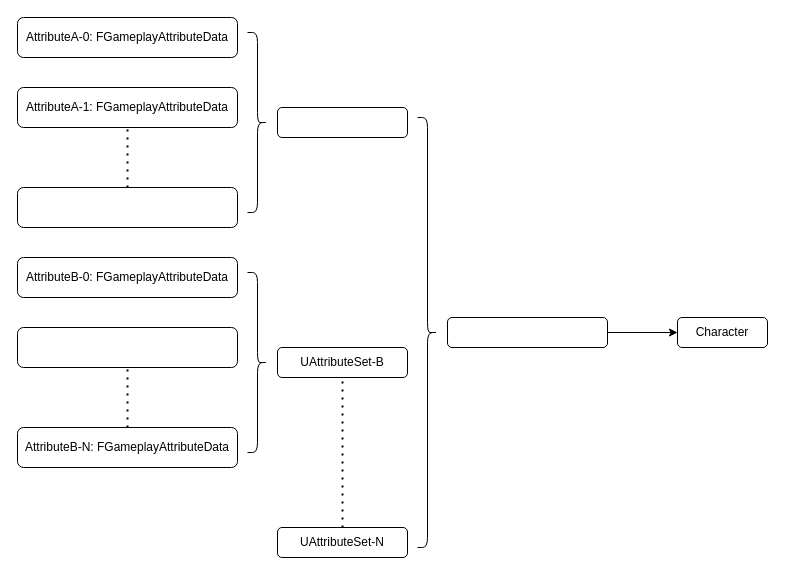
This 785x575 diagram has some shape labels left out. The shapes that lost their labels are listed below. From the top down, each one's centre as x and y in pixels, then its label:
point 342,122: UAttributeSet-A
point 127,207: AttributeA-N: FGameplayAttributeData
point 127,347: AttributeB-1: FGameplayAttributeData
point 527,332: AbilitySystemComponent
